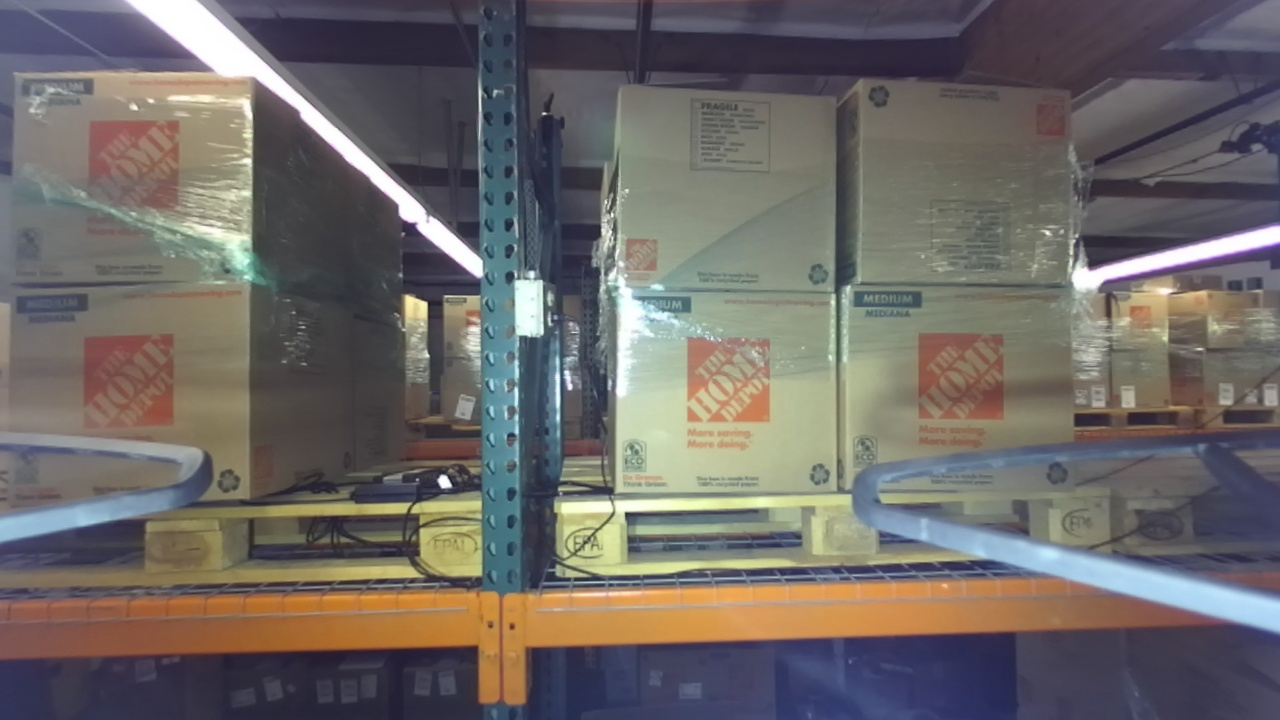box: (814, 265, 1092, 533), (4, 289, 295, 533), (4, 65, 295, 305), (834, 60, 1098, 303), (590, 287, 857, 518), (595, 70, 845, 286)
